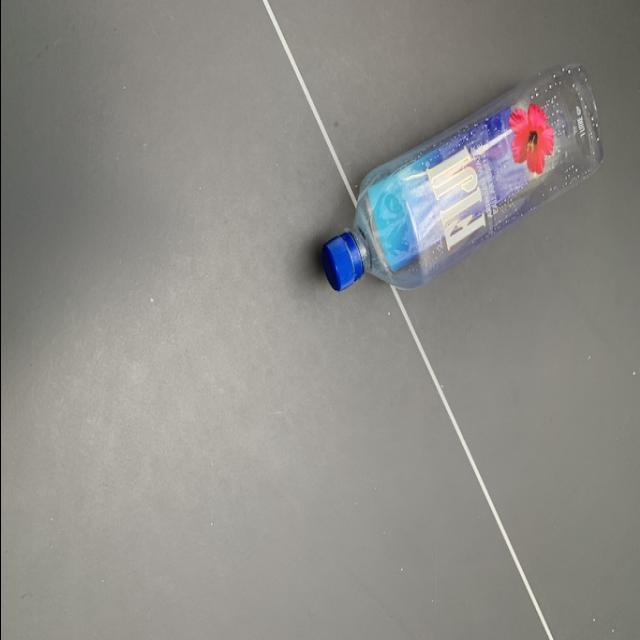litter: (322, 62, 604, 290)
